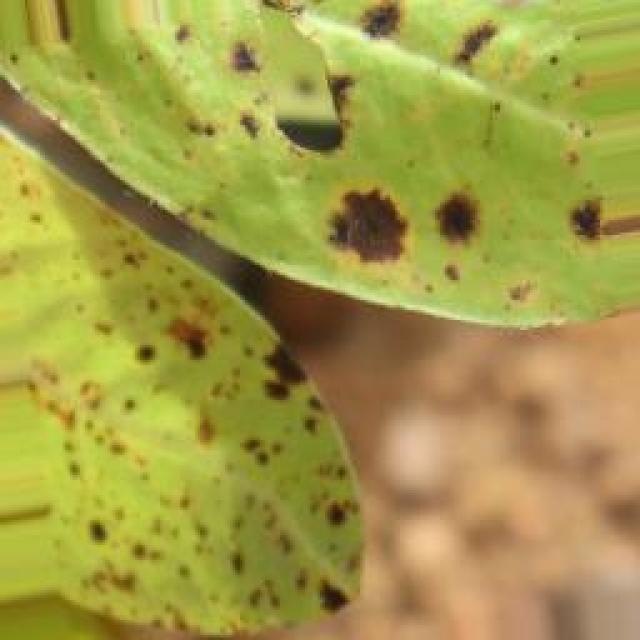Yellowish: (34, 0, 608, 593)
